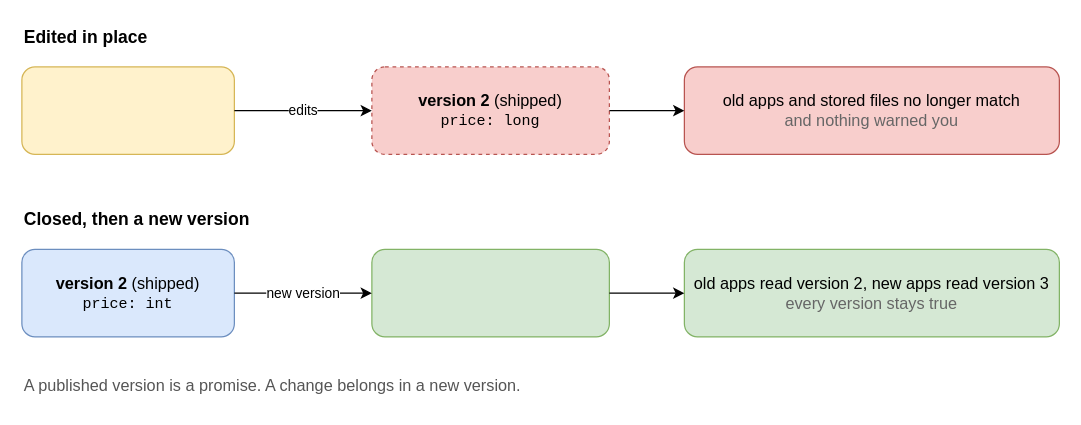
Some shapes in this 1081 by 425 pixel diagram are drawn without their labels. The box of each missing label's shape, as (x1, y1, x2, y2) in pixels:
a quick fix price becomes long: (21, 66, 234, 154)
version 3 (new) price: long: (371, 248, 609, 337)
